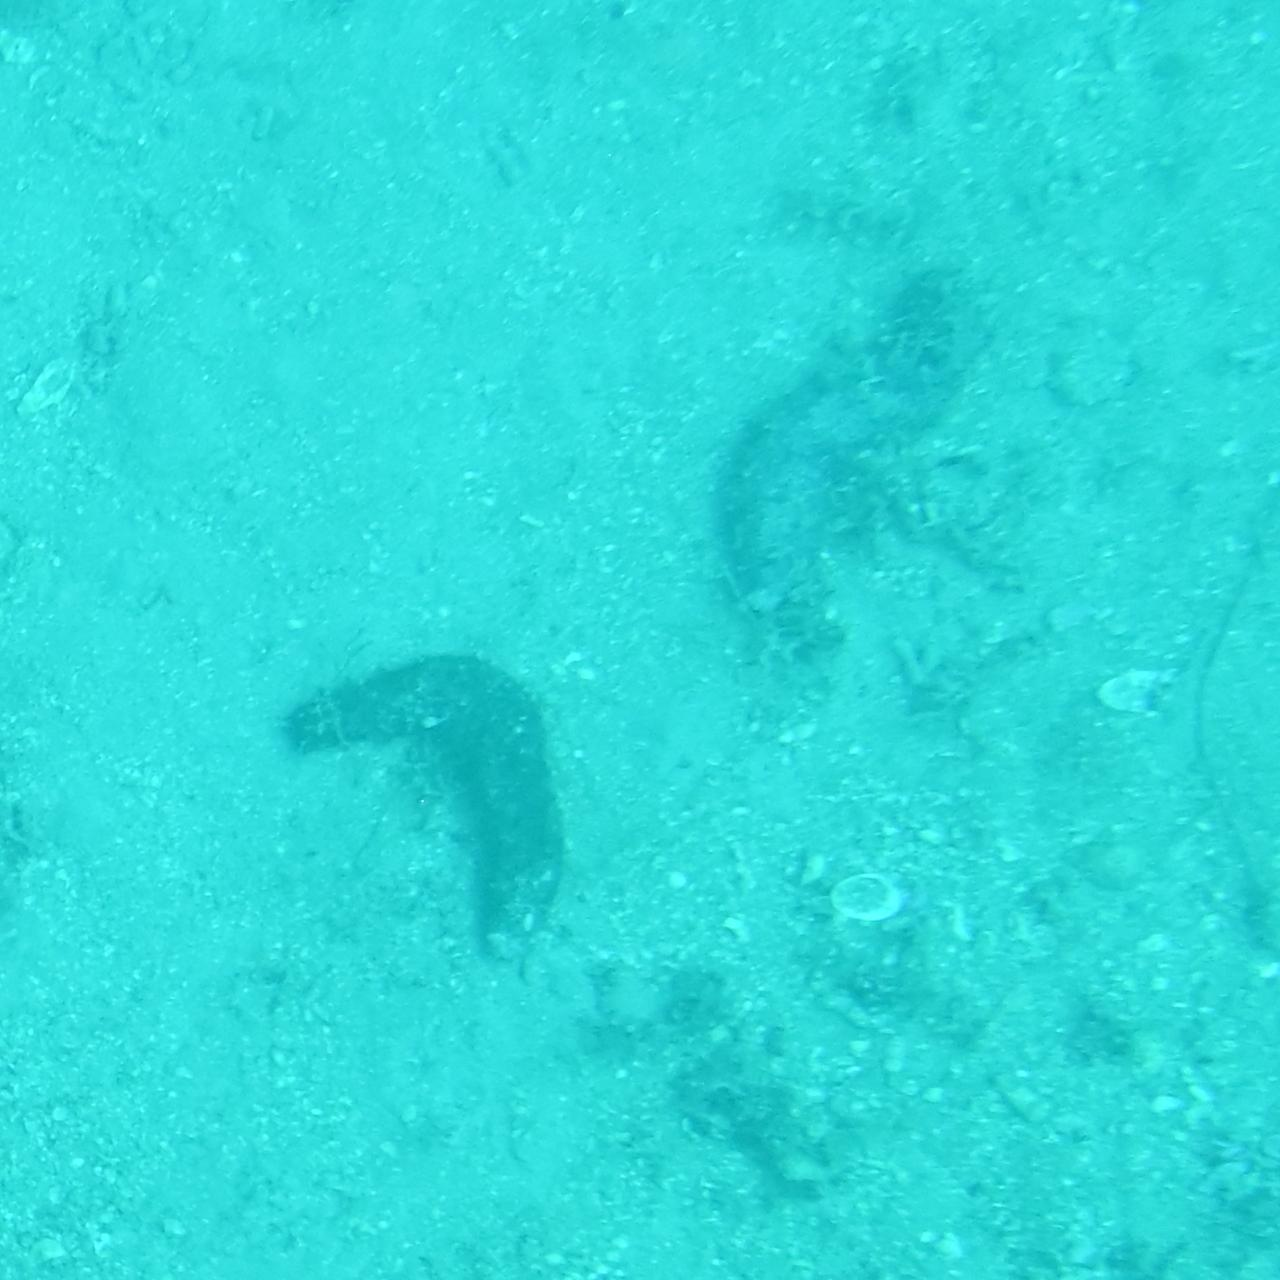Holothuria tubulosa: (279, 640, 586, 976), (723, 268, 973, 676)
